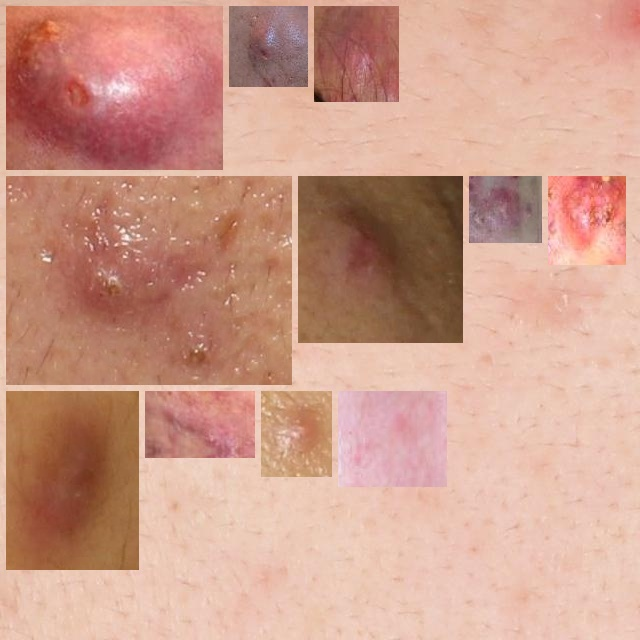nodule: (14, 184, 284, 377), (14, 14, 215, 162), (306, 184, 455, 335), (14, 399, 131, 562), (346, 399, 439, 479), (322, 14, 391, 94), (153, 399, 247, 450), (556, 184, 618, 257), (237, 14, 300, 79), (269, 399, 324, 469), (477, 184, 534, 235)
